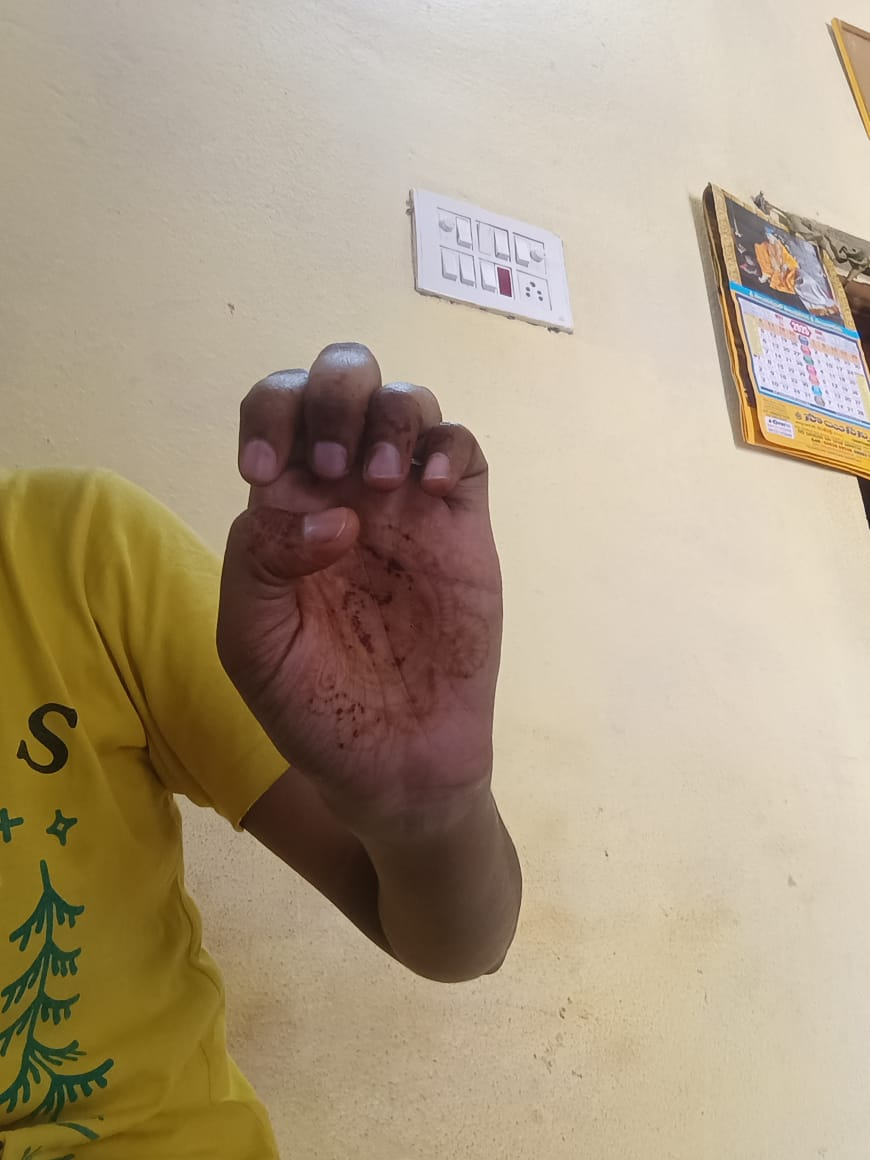E: (214, 344, 502, 780)
